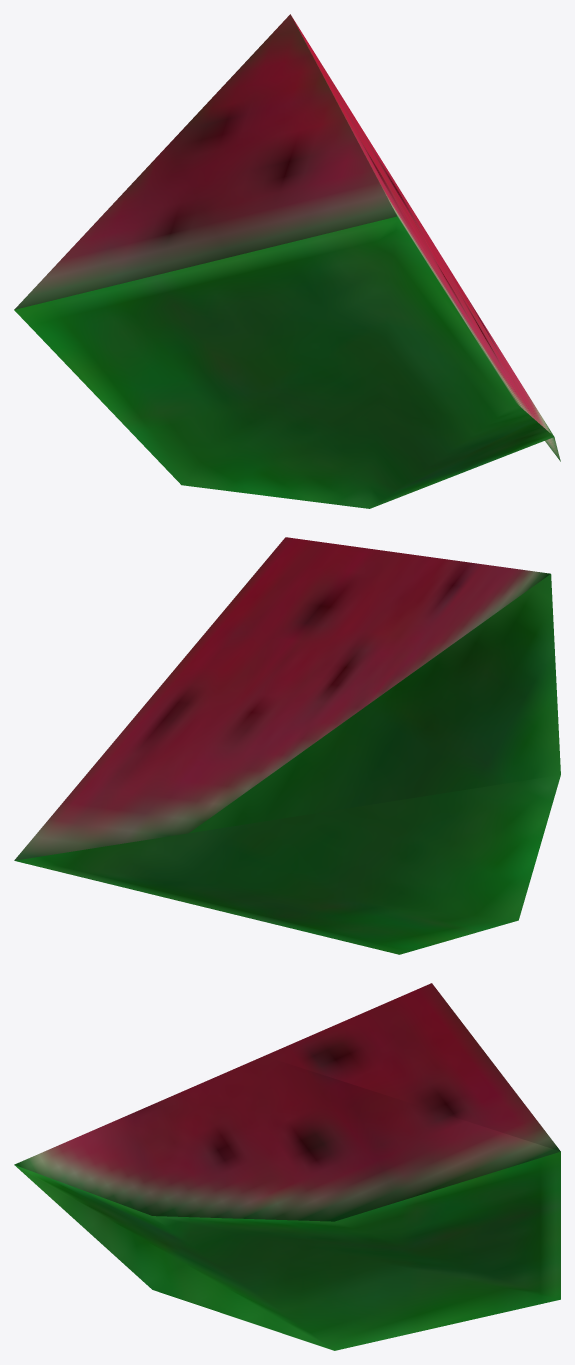
Rendered from watermelon.glb.
3 views of the same model, one above another, from view 1: azimuth 30°, elevation 25°; view 2: azimuth 150°, elevation 25°; view 3: azimuth 270°, elevation 25° (orthographic). The views are drawn at different scales.
Visible parts, largest first — view 1: polySurface1; view 2: polySurface1; view 3: polySurface1.
Part boxes in pixels (<box>): polySurface1: <box>14,14,560,508</box>; polySurface1: <box>14,537,560,954</box>; polySurface1: <box>14,983,560,1350</box>.
Bounding box in the file's own units: 2.12 × 2.03 × 3.31.
Materials: 1 (1 with a texture image).
